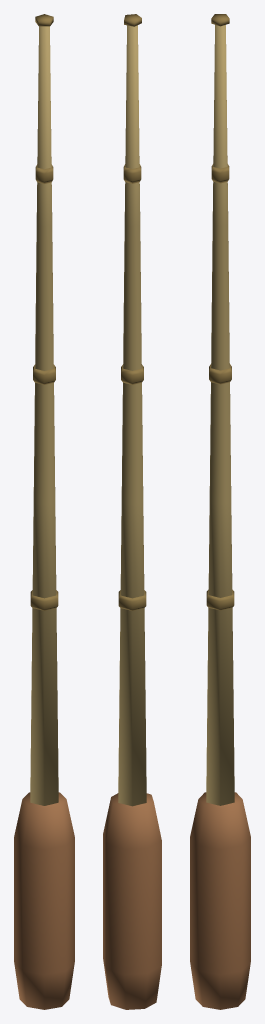
File: PRP_Fishing_Rod_A.fbx
The picture shows the model from 3 angles, left to right: view 1: azimuth 90°, elevation 25°; view 2: azimuth 210°, elevation 25°; view 3: azimuth 270°, elevation 25°; orthographic projection.
Parts seen in each view (by area): view 1: PRP_Fishing_Rod_A_LOD0; view 2: PRP_Fishing_Rod_A_LOD0; view 3: PRP_Fishing_Rod_A_LOD0.
Boxes of the visible parts, x1,y1,x2,y2 form: PRP_Fishing_Rod_A_LOD0: [14, 14, 74, 1009]; PRP_Fishing_Rod_A_LOD0: [103, 14, 161, 1009]; PRP_Fishing_Rod_A_LOD0: [190, 14, 250, 1009].
Size of what is drawn, in the model's own units: 0.044 by 0.784 by 0.044.
